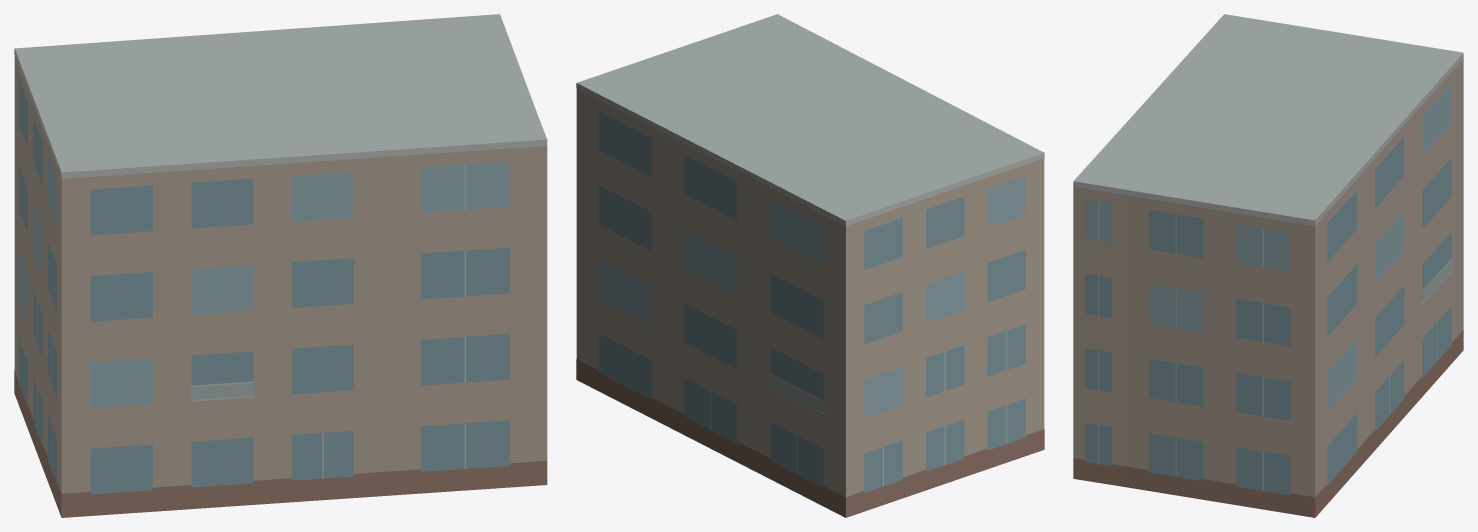
The model's file is survey-upis-32601722.glb.
3 renders of one model, left to right at view 1: azimuth 30°, elevation 25°; view 2: azimuth 150°, elevation 25°; view 3: azimuth 270°, elevation 25°, orthographic. The views are drawn at different scales.
Visible parts, largest first — view 1: survey-upis-32601722.tmp; view 2: survey-upis-32601722.tmp; view 3: survey-upis-32601722.tmp.
Part boxes in pixels (<box>): survey-upis-32601722.tmp: <box>14,14,547,517</box>; survey-upis-32601722.tmp: <box>576,14,1044,517</box>; survey-upis-32601722.tmp: <box>1073,14,1463,517</box>.
Bounding box in the file's own units: 19.66 × 13.2 × 15.71.
